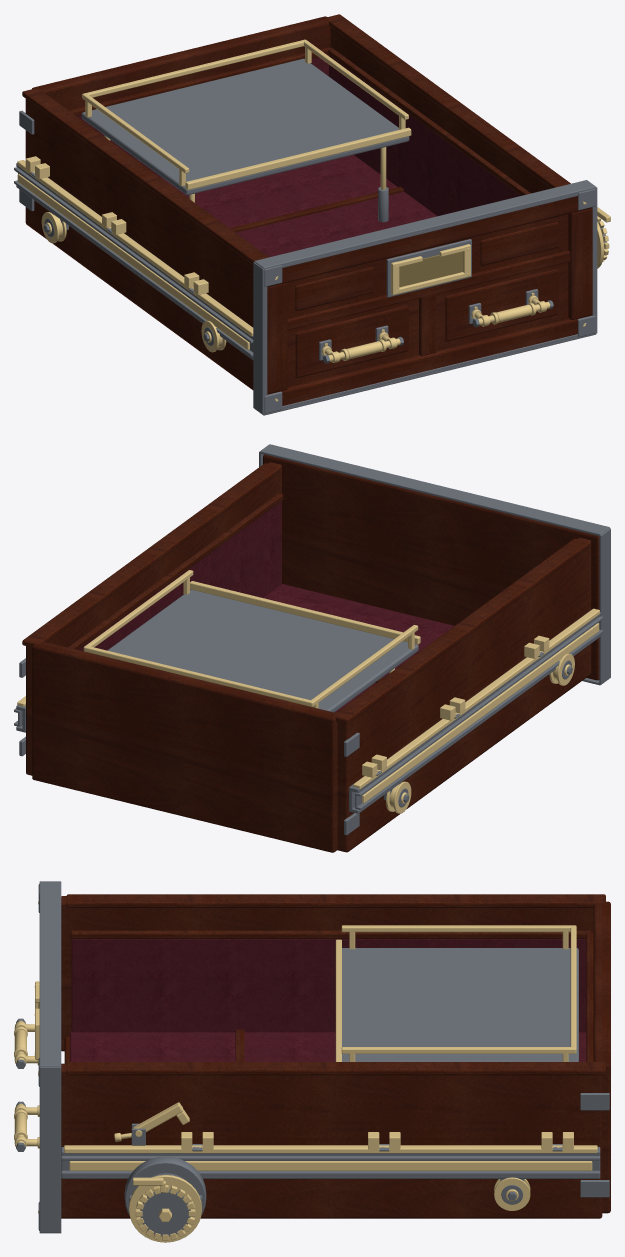
The model's file is hero_drawer_proof.glb.
The picture shows the model from 3 angles, top to bottom: view 1: azimuth 30°, elevation 25°; view 2: azimuth 150°, elevation 25°; view 3: azimuth 270°, elevation 25°; orthographic projection. The views are drawn at different scales.
Parts seen in each view (by area): view 1: mesh_hero_drawer_role_body_handled_lacquer, mesh_hero_drawer_role_weighing_pan_iron_structure, mesh_hero_drawer_role_body_worn_lining, mesh_hero_drawer_role_body_iron_structure, mesh_hero_drawer_role_rear_bulkhead_handled_lacquer, mesh_hero_drawer_role_body_brass_hardware, mesh_hero_drawer_role_weighing_pan_brass_hardware, mesh_hero_drawer_role_carrier_iron_structure, mesh_hero_drawer_card_plaque_inset, mesh_hero_drawer_role_fixed_iron_structure; view 2: mesh_hero_drawer_role_body_handled_lacquer, mesh_hero_drawer_role_rear_bulkhead_handled_lacquer, mesh_hero_drawer_role_weighing_pan_iron_structure, mesh_hero_drawer_role_body_worn_lining, mesh_hero_drawer_role_body_iron_structure, mesh_hero_drawer_role_weighing_pan_brass_hardware, mesh_hero_drawer_role_body_brass_hardware, mesh_hero_drawer_role_carrier_iron_structure, mesh_hero_drawer_role_fixed_iron_structure; view 3: mesh_hero_drawer_role_body_handled_lacquer, mesh_hero_drawer_role_body_worn_lining, mesh_hero_drawer_role_weighing_pan_iron_structure, mesh_hero_drawer_role_body_brass_hardware, mesh_hero_drawer_role_body_iron_structure, mesh_hero_drawer_role_carrier_iron_structure, mesh_hero_drawer_role_weighing_pan_brass_hardware, mesh_hero_drawer_role_rear_bulkhead_handled_lacquer, mesh_hero_drawer_role_fixed_iron_structure, mesh_hero_drawer_role_spring_housing_iron_structure, mesh_hero_drawer_role_winding_ratchet_iron_structure, mesh_hero_drawer_role_output_spool_brass_hardware (+3 smaller).
Boxes of the visible parts, x1,y1,x2,y2 form: mesh_hero_drawer_role_body_handled_lacquer: (22,14,592,405); mesh_hero_drawer_role_weighing_pan_iron_structure: (81,58,409,195); mesh_hero_drawer_role_body_worn_lining: (161,55,520,257); mesh_hero_drawer_role_body_iron_structure: (19,110,597,415); mesh_hero_drawer_role_rear_bulkhead_handled_lacquer: (32,16,330,116); mesh_hero_drawer_role_body_brass_hardware: (17,160,586,401); mesh_hero_drawer_role_weighing_pan_brass_hardware: (82,39,411,202); mesh_hero_drawer_role_carrier_iron_structure: (14,167,253,356); mesh_hero_drawer_card_plaque_inset: (399,251,462,287); mesh_hero_drawer_role_fixed_iron_structure: (16,163,253,359); mesh_hero_drawer_role_body_handled_lacquer: (22,454,599,852); mesh_hero_drawer_role_rear_bulkhead_handled_lacquer: (32,641,337,852); mesh_hero_drawer_role_weighing_pan_iron_structure: (107,589,418,712); mesh_hero_drawer_role_body_worn_lining: (78,501,453,712); mesh_hero_drawer_role_body_iron_structure: (19,444,610,835); mesh_hero_drawer_role_weighing_pan_brass_hardware: (83,570,420,708); mesh_hero_drawer_role_body_brass_hardware: (17,608,599,803); mesh_hero_drawer_role_carrier_iron_structure: (14,616,603,809); mesh_hero_drawer_role_fixed_iron_structure: (16,611,600,813); mesh_hero_drawer_role_body_handled_lacquer: (61,894,605,1218); mesh_hero_drawer_role_body_worn_lining: (70,939,586,1061); mesh_hero_drawer_role_weighing_pan_iron_structure: (342,948,578,1061); mesh_hero_drawer_role_body_brass_hardware: (14,901,597,1213); mesh_hero_drawer_role_body_iron_structure: (16,881,609,1233); mesh_hero_drawer_role_carrier_iron_structure: (61,1155,600,1200); mesh_hero_drawer_role_weighing_pan_brass_hardware: (335,925,576,1061); mesh_hero_drawer_role_rear_bulkhead_handled_lacquer: (586,901,610,1213); mesh_hero_drawer_role_fixed_iron_structure: (61,1123,600,1178); mesh_hero_drawer_role_spring_housing_iron_structure: (124,1156,206,1215); mesh_hero_drawer_role_winding_ratchet_iron_structure: (140,1189,190,1236); mesh_hero_drawer_role_output_spool_brass_hardware: (129,1175,201,1242).
Bounding box in the file's own units: 1.98 × 0.696 × 2.24.
5 materials, 3 textured.
